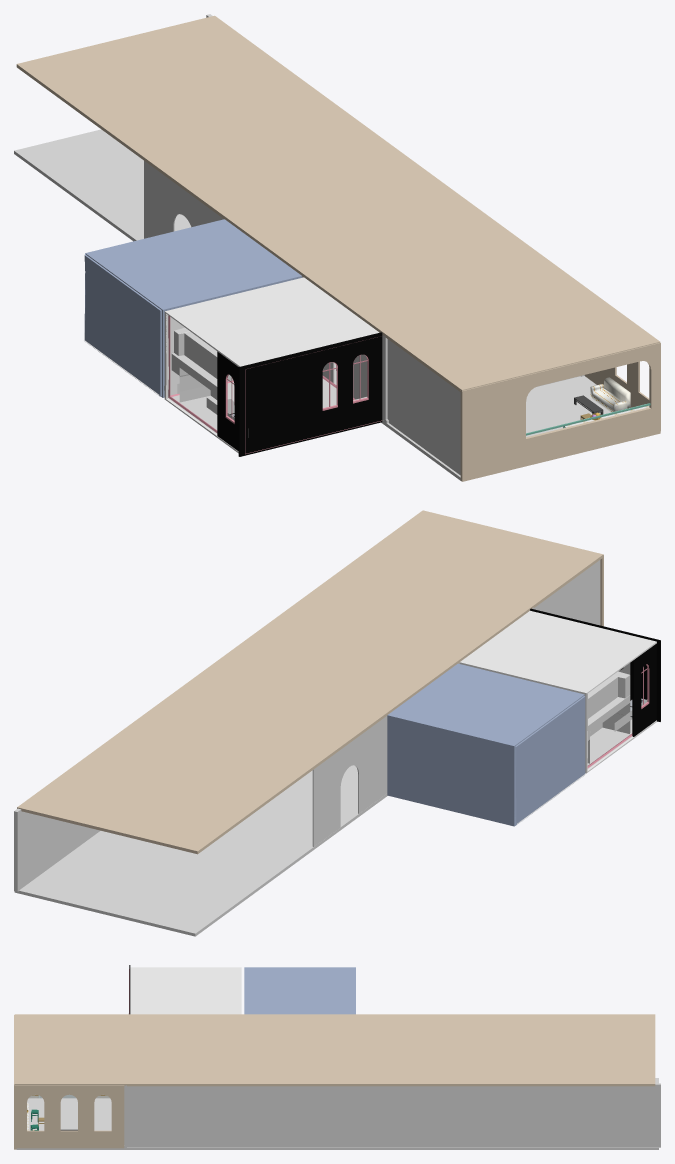
Rendered from IceCreamExhibit1.fbx.
3 renders of one model, top to bottom at view 1: azimuth 30°, elevation 25°; view 2: azimuth 150°, elevation 25°; view 3: azimuth 270°, elevation 25°, orthographic. The views are drawn at different scales.
Parts seen in each view (by area): view 1: CeilingLobby, Walls, WallLobby4, Window line.001, Walls.001, Floor_Lobby, WallLobby1, Circle, Counter, WindowSill.002, Flooring, WindowLobby (+2 smaller); view 2: CeilingLobby, Walls, Floor_Lobby, Walls.001, Circle, WallLobby3, WallLobby1, Counter, WindowSill.002, Window line.001, Flooring; view 3: CeilingLobby, WallLobby3, WindowLobby, Walls, Walls.001, Floor_Lobby.
Part boxes in pixels (box(x1,y1,x2,y2)): CeilingLobby: box(16, 15, 660, 391); Walls: box(84, 219, 302, 397); WallLobby4: box(460, 342, 660, 481); Window line.001: box(238, 332, 382, 456); Walls.001: box(164, 277, 379, 453); Floor_Lobby: box(14, 129, 610, 480); WallLobby1: box(387, 339, 460, 475); Circle: box(144, 161, 383, 420); Counter: box(171, 327, 234, 413); WindowSill.002: box(217, 351, 238, 450); Flooring: box(167, 378, 336, 433); WindowLobby: box(584, 343, 660, 430); CeilingLobby: box(17, 510, 603, 854); Walls: box(387, 663, 585, 826); Floor_Lobby: box(14, 765, 387, 936); Walls.001: box(459, 610, 656, 773); Circle: box(312, 663, 459, 846); WallLobby3: box(14, 808, 100, 891); WallLobby1: box(534, 560, 600, 625); Counter: box(587, 663, 630, 763); WindowSill.002: box(632, 644, 656, 736); Window line.001: box(530, 608, 660, 721); Flooring: box(587, 719, 632, 768); CeilingLobby: box(14, 1014, 655, 1086); WallLobby3: box(124, 1083, 660, 1147); WindowLobby: box(14, 1085, 124, 1148); Walls: box(244, 967, 355, 1014); Walls.001: box(130, 967, 241, 1014); Floor_Lobby: box(16, 1078, 658, 1149).
Bounding box in the file's own units: 4392 × 1127 × 10018.
26 materials, 9 textured.
